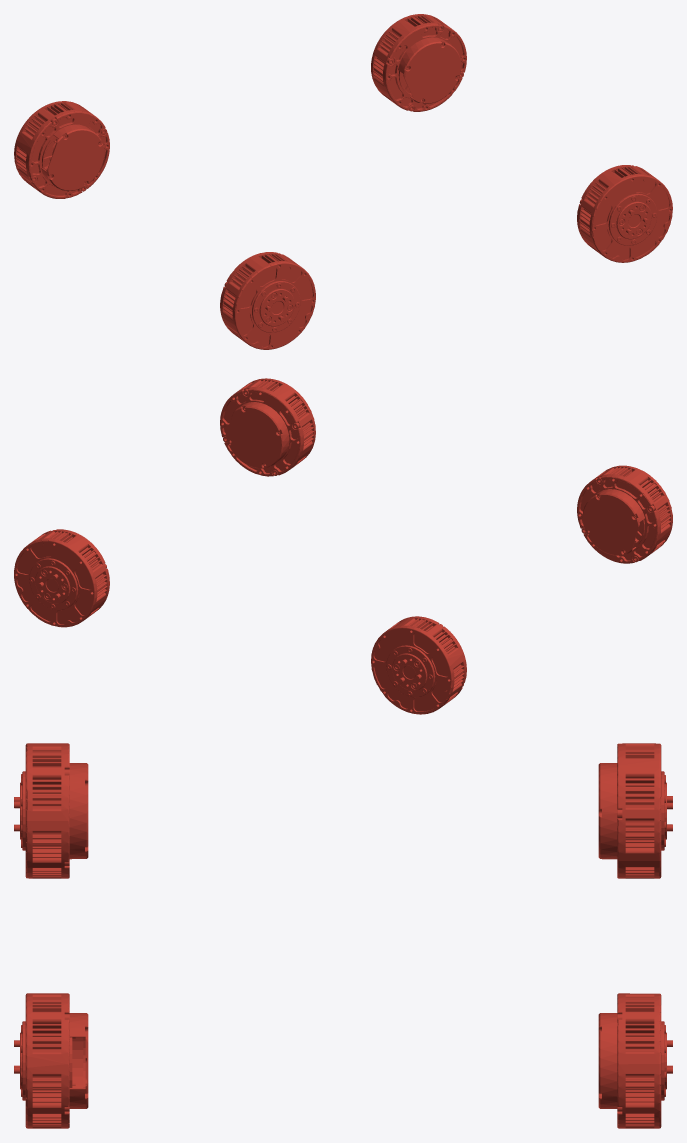
The model's file is motores.dae.
3 views of the same model, one above another, from view 1: azimuth 30°, elevation 25°; view 2: azimuth 150°, elevation 25°; view 3: azimuth 270°, elevation 25° (orthographic). The views are drawn at different scales.
Visible parts, largest first — view 1: nodo; view 2: nodo; view 3: nodo.
Boxes of the visible parts, x1,y1,x2,y2 form: nodo: (14,14,672,349); nodo: (14,378,672,714); nodo: (14,743,672,1128).
Size of the model in its own units: 0.43 by 0.39 by 0.08.
